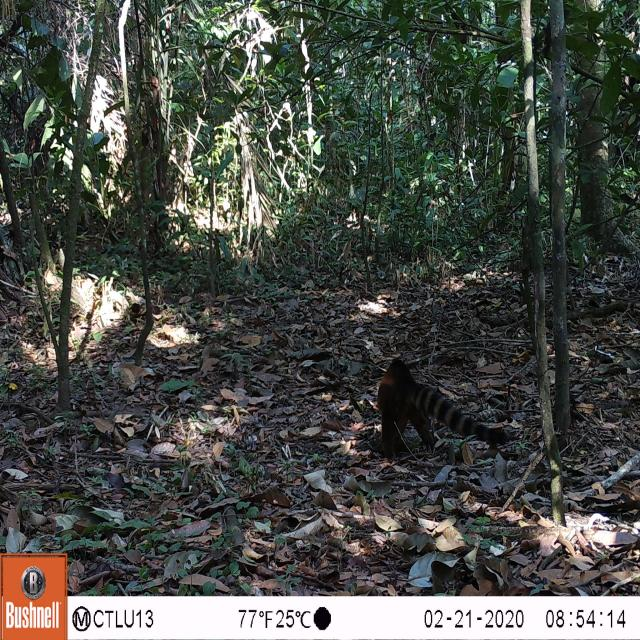South American Coati: (362, 342, 511, 467)
